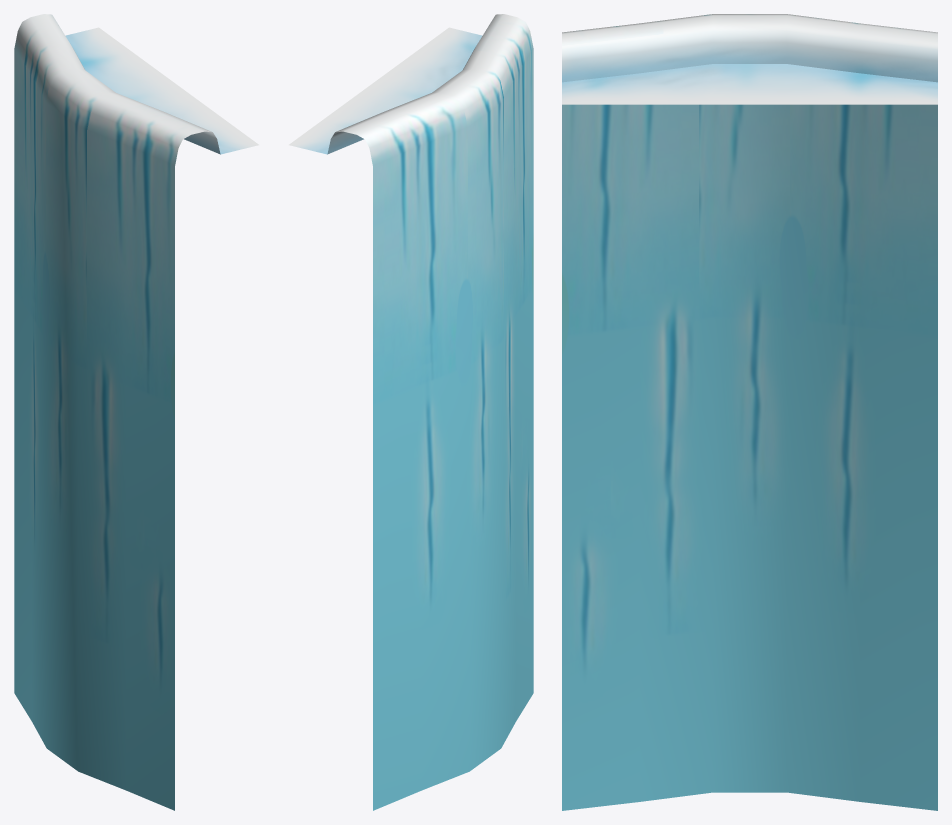
File: High_Dike_4.FBX
The picture shows the model from 3 angles, left to right: view 1: azimuth 30°, elevation 25°; view 2: azimuth 150°, elevation 25°; view 3: azimuth 270°, elevation 25°; orthographic projection. The views are drawn at different scales.
Parts seen in each view (by area): view 1: Object293; view 2: Object293; view 3: Object293.
Part boxes in pixels (x1,y1,x2,y2): Object293: (14,14,258,810); Object293: (289,14,533,810); Object293: (562,14,937,810).
Size of the model in its own units: 168 by 923 by 400.
